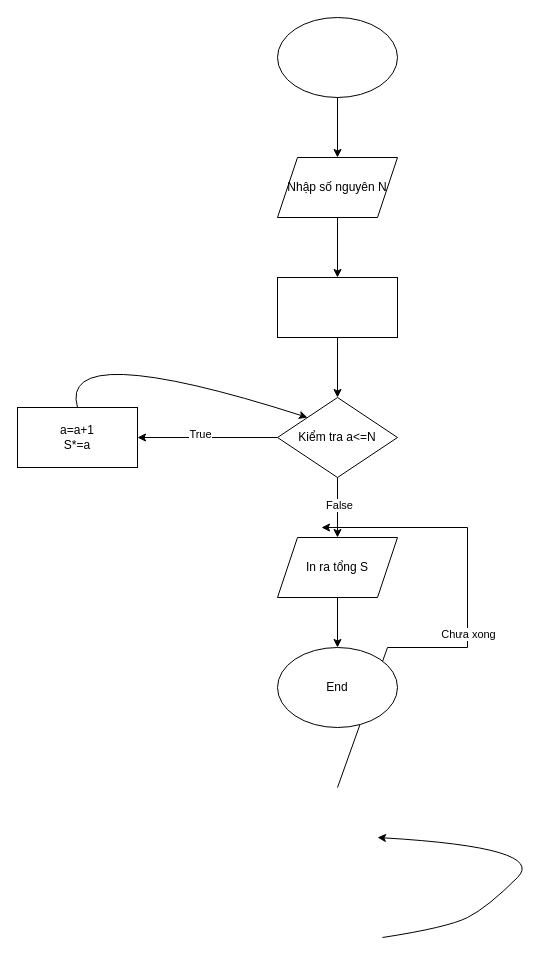
Some shapes in this 540 by 955 pixel diagram are drawn without their labels. Here are the shapes that lost their labels. From the top down, the centre of each, then its label:
the point at 337,57: Start
the point at 337,307: Tạo biến tính tổng S=1 và giá trị ban đầu a=1
